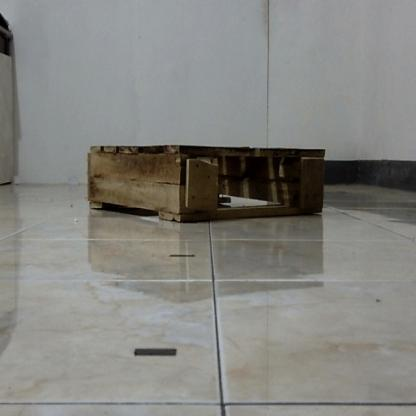Wooden-Pallet: (86, 141, 327, 227)
